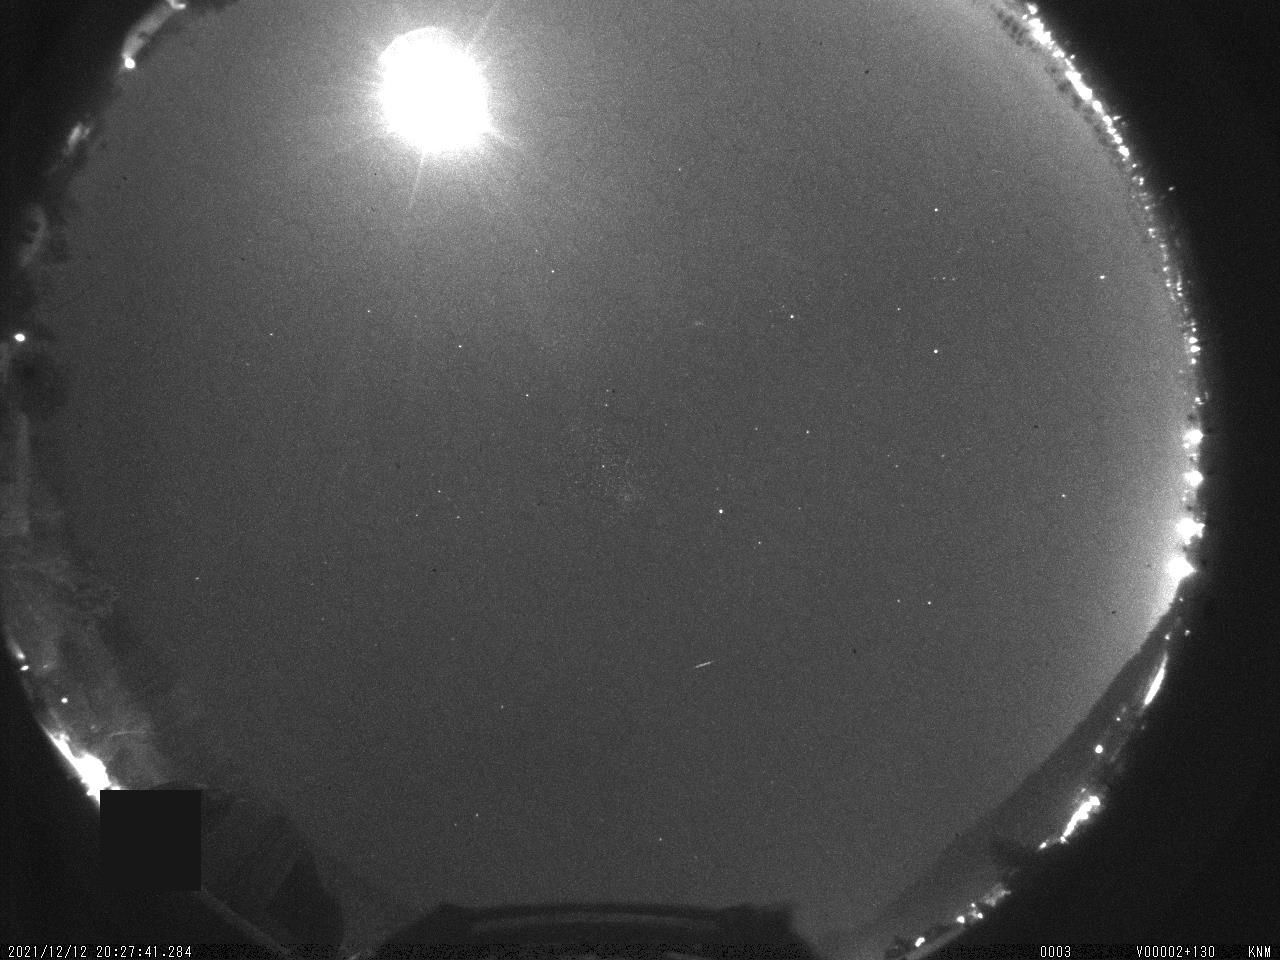meteor: (686, 639, 724, 693)
